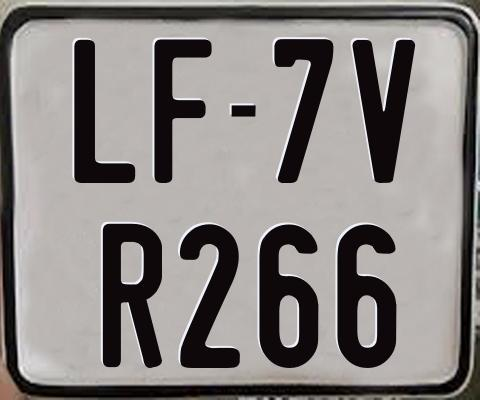2: (179, 224, 243, 368)
6: (335, 223, 400, 368), (257, 223, 321, 370)
7: (271, 38, 336, 186)
F: (154, 36, 215, 186)
L: (72, 38, 138, 181)
R: (101, 222, 160, 370)
V: (352, 40, 418, 186)
